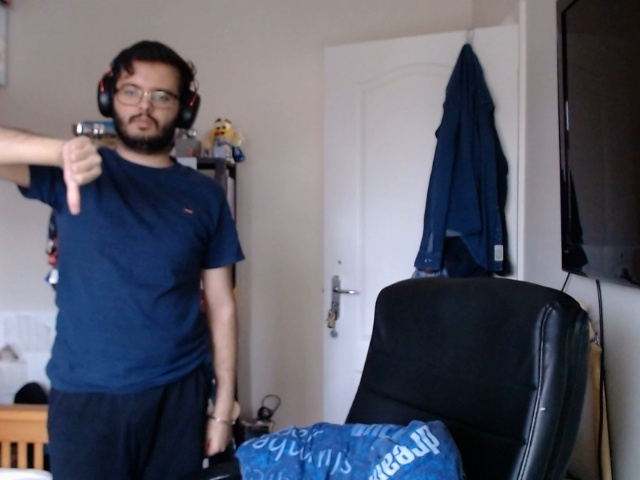Thumbs down: (55, 129, 107, 221)
